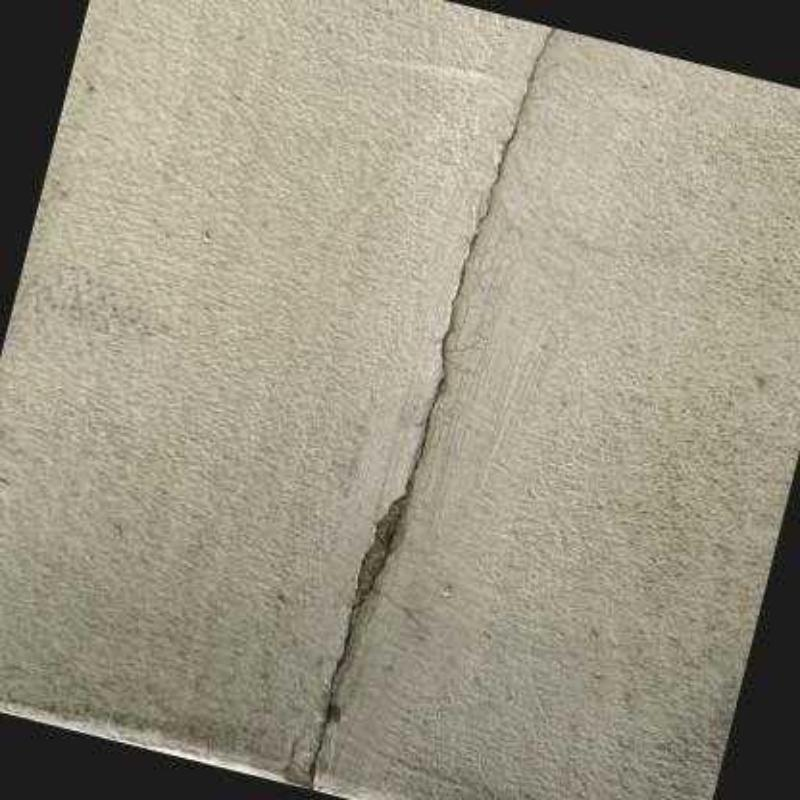pothole: (311, 29, 555, 791)
